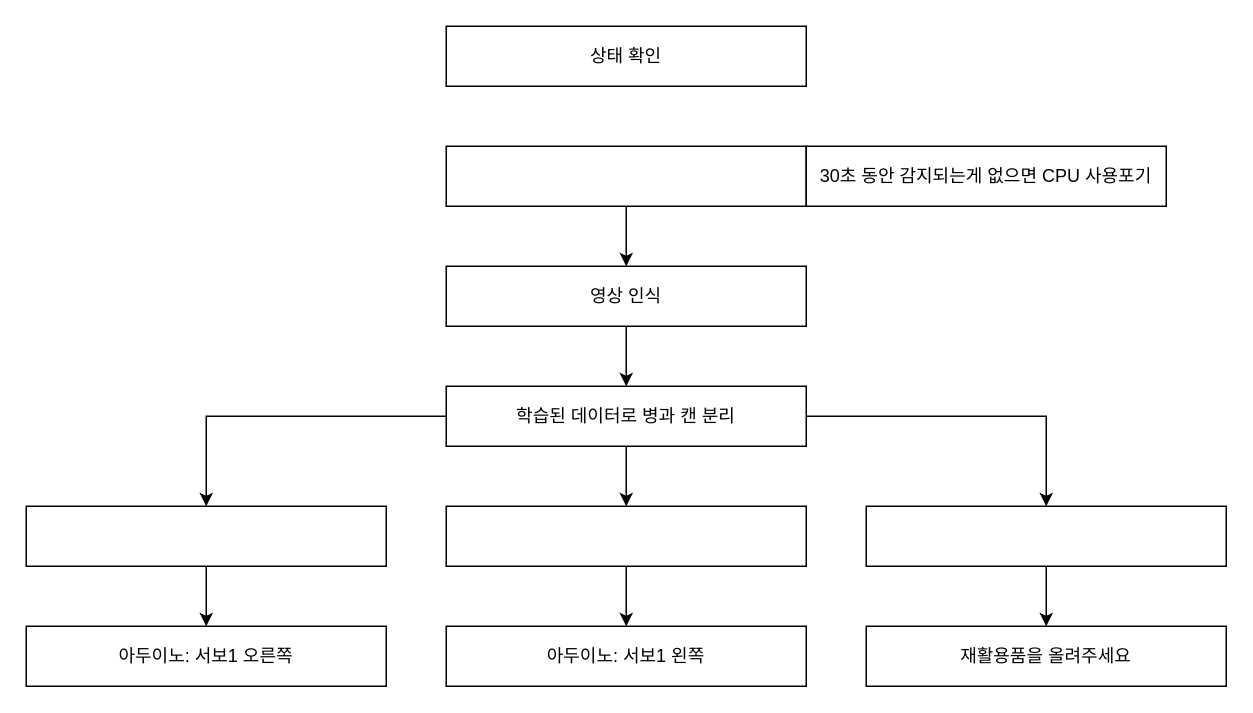
The diagram is 1253 pixels wide and 713 high, and some of its shapes have lost their labels. Each missing label, with the centre of its shape:
둘다 아닐때: point (1045, 535)
영상인식 실행 신호: point (625, 175)
캔일때: point (625, 535)
페트병일떄: point (205, 535)
